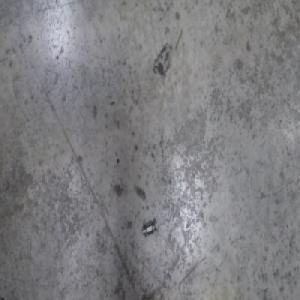Bolt: (142, 218, 158, 239)
